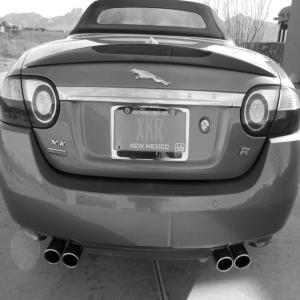Plate: (111, 106, 190, 161)
